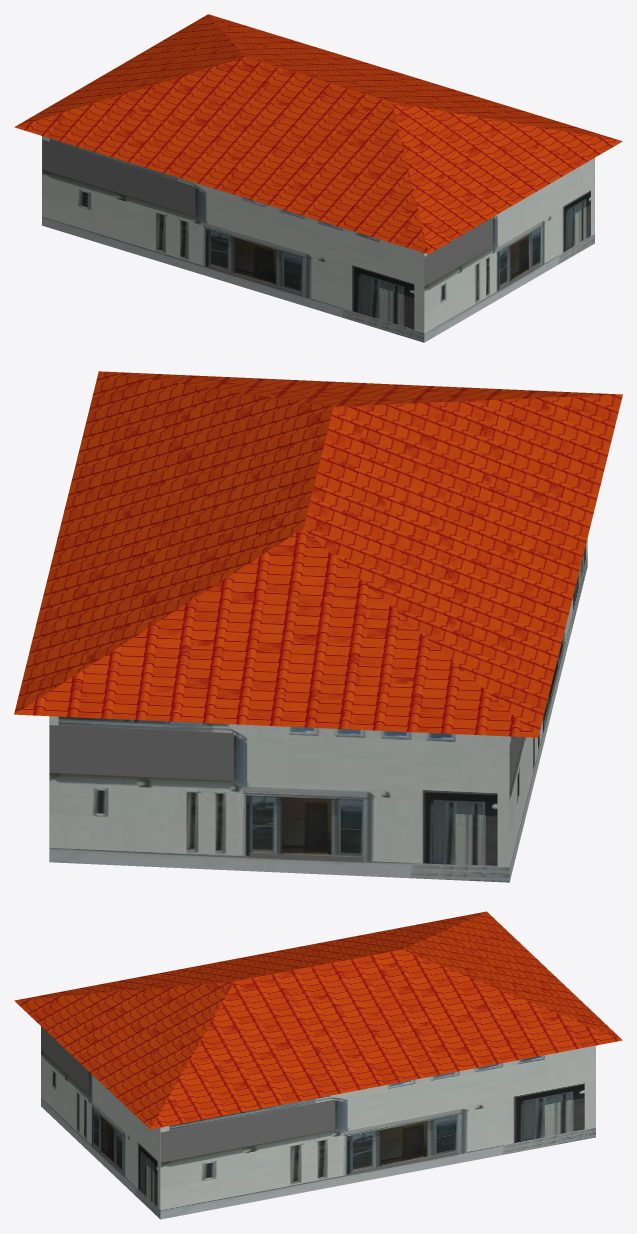
3 renders of one model, top to bottom at view 1: azimuth 30°, elevation 25°; view 2: azimuth 150°, elevation 25°; view 3: azimuth 270°, elevation 25°, orthographic. The views are drawn at different scales.
Parts seen in each view (by area): view 1: CityEngineMaterial_12_m, CityEngineMaterial_11_m; view 2: CityEngineMaterial_12_m, CityEngineMaterial_11_m; view 3: CityEngineMaterial_12_m, CityEngineMaterial_11_m.
Boxes of the visible parts, x1,y1,x2,y2 form: CityEngineMaterial_12_m: (14, 14, 622, 254); CityEngineMaterial_11_m: (42, 136, 594, 342); CityEngineMaterial_12_m: (14, 371, 622, 737); CityEngineMaterial_11_m: (49, 538, 587, 882); CityEngineMaterial_12_m: (14, 911, 622, 1129); CityEngineMaterial_11_m: (41, 1026, 595, 1219).
Size of the model in its own units: 23.84 by 7.97 by 28.13.
